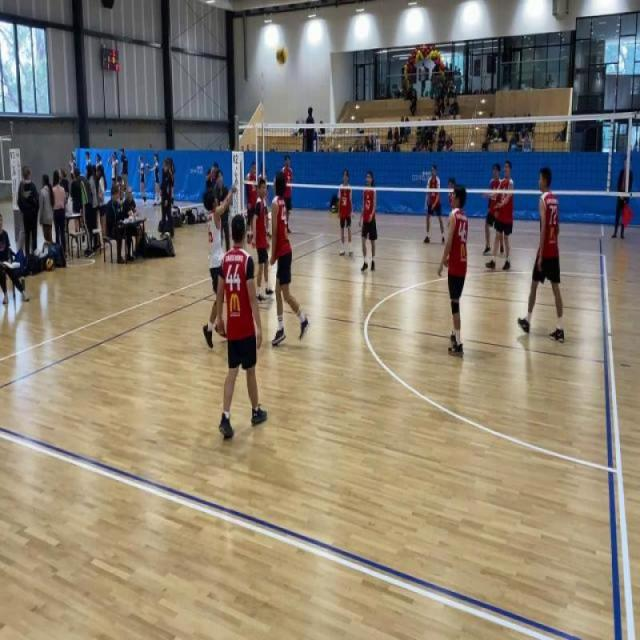volleyball: (274, 43, 289, 69), (46, 258, 55, 272), (163, 230, 171, 240), (148, 234, 154, 241), (145, 162, 150, 170), (331, 206, 336, 213)
